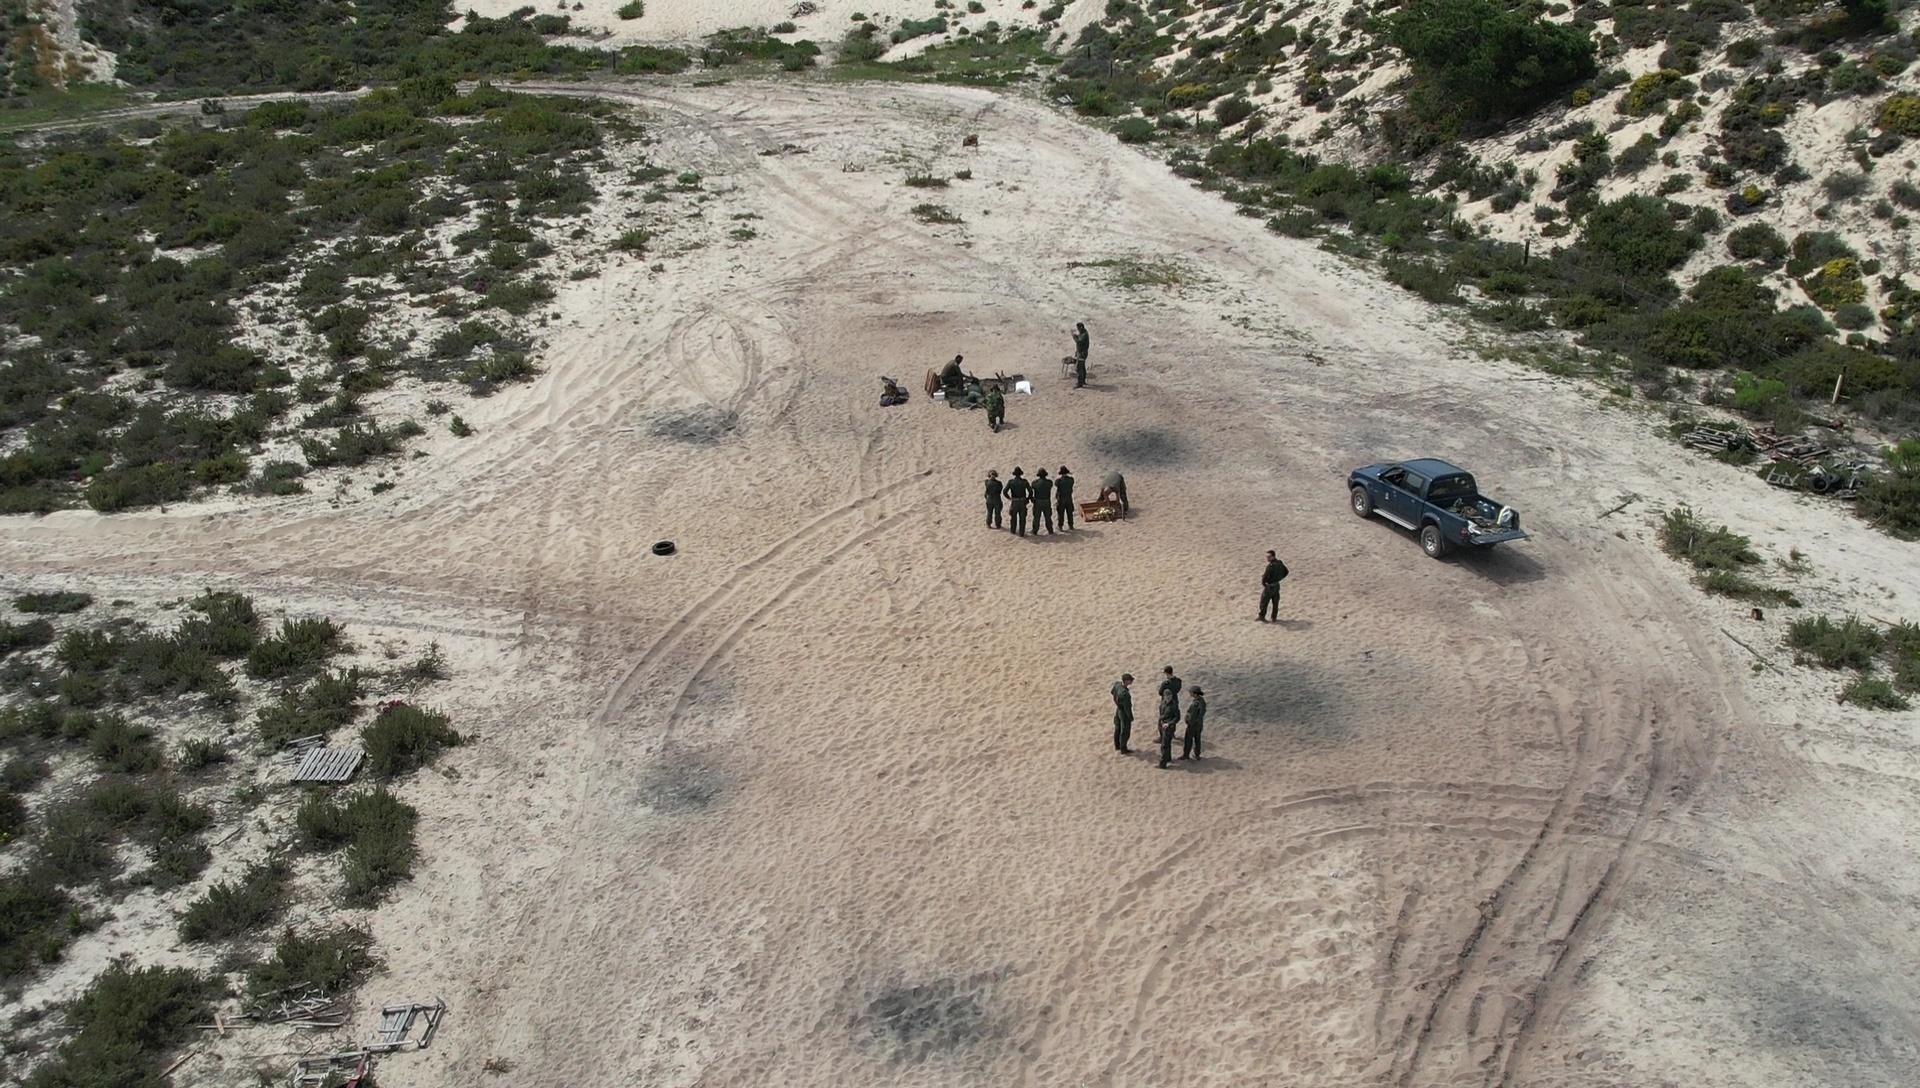Soldier: (1106, 661, 1145, 766), (1254, 539, 1291, 632), (1029, 462, 1067, 546), (1091, 458, 1138, 521), (1005, 460, 1035, 547), (1065, 317, 1098, 396), (1050, 459, 1079, 543), (980, 464, 1011, 535), (1156, 674, 1182, 760), (1185, 680, 1211, 764), (938, 353, 973, 408), (977, 376, 1010, 430)
